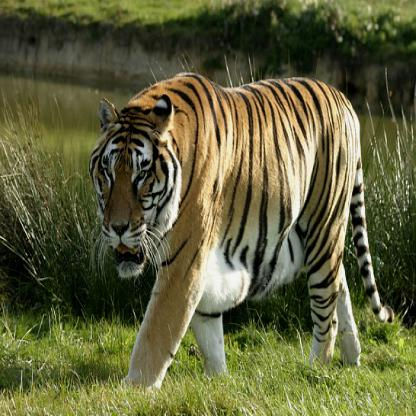cat: (87, 72, 396, 394)
